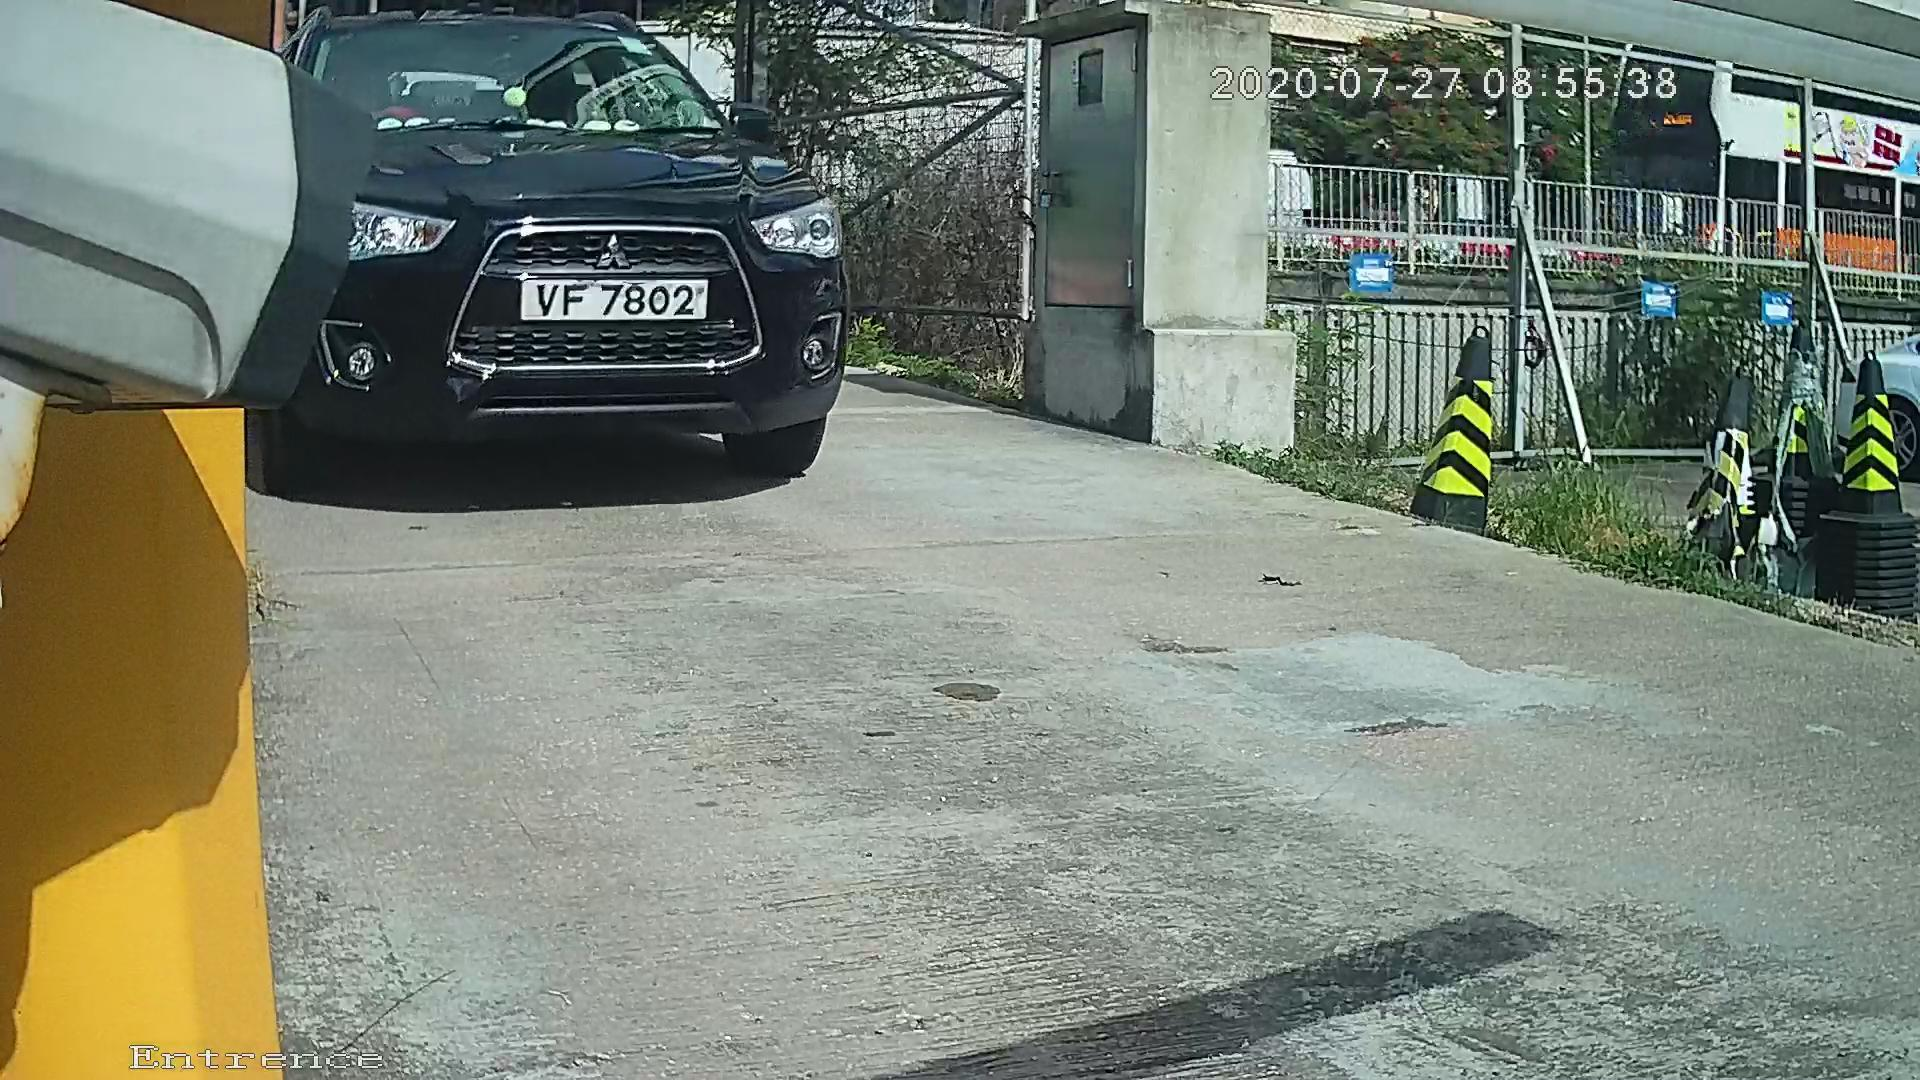Car: (146, 10, 995, 512)
License Plate: (481, 251, 738, 333)
